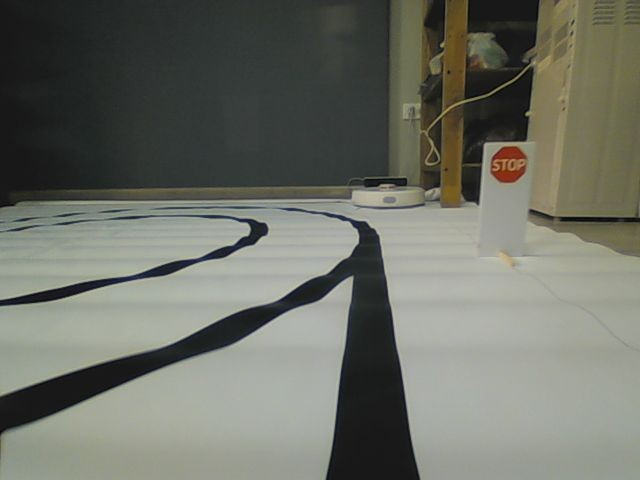Stop: (489, 145, 529, 185)
